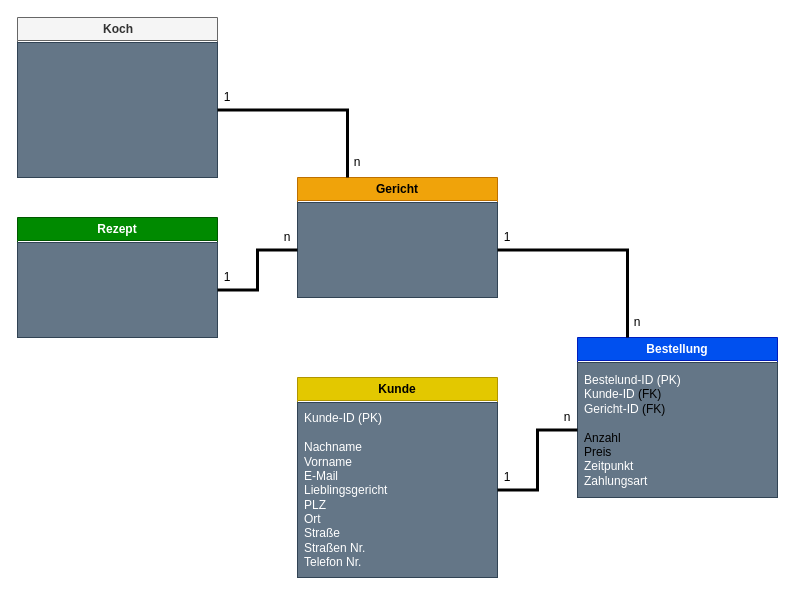
The diagram is 795 pixels wide and 595 high, and some of its shapes have lost their labels. The centre of each missing label's shape, as x and y in pixels:
Gericht-ID (PK) Koch-ID (FK) Rezept-ID (FK): pixel 397 250
Koch-ID (PK) Nachname Vorname Sterne Alter Geschlecht Spezialgebiet: pixel 117 110
Rezept-ID (PK) Name Dauer Speiseart Rezeptbeschreibung: pixel 117 290
